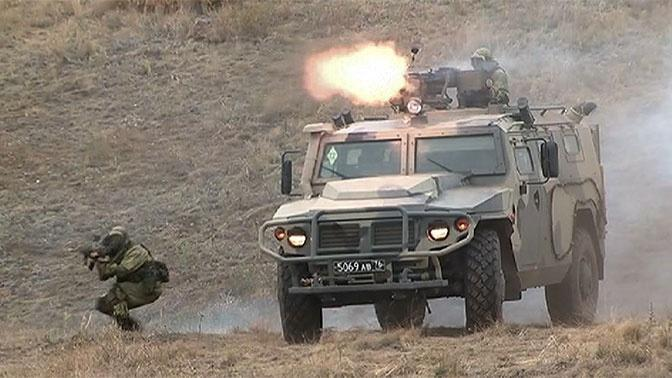armored_car: (258, 66, 607, 345)
person: (93, 226, 170, 332)
